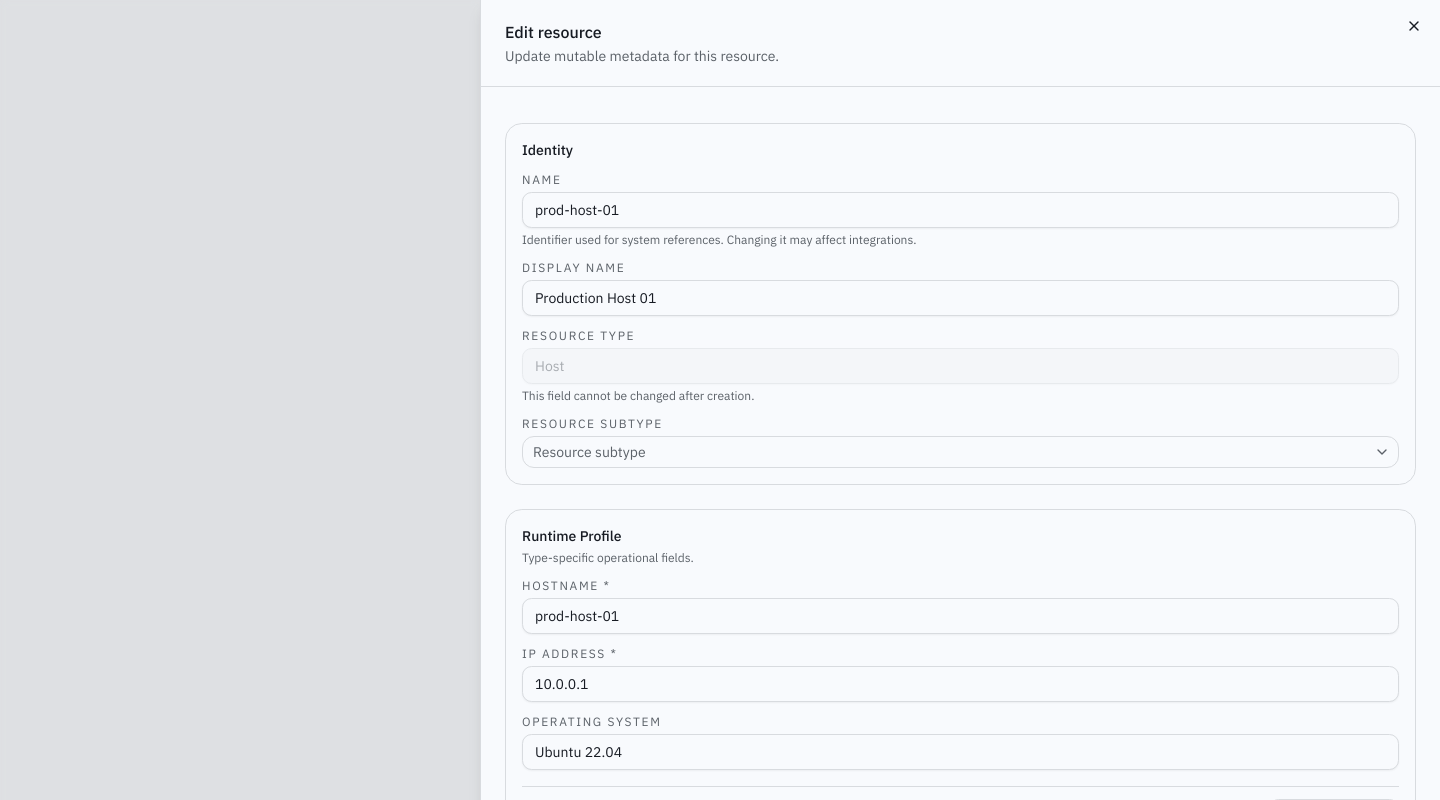
Test case: EditResourceSheet › shows the same backend identity field error on the profile input
The width and height of the screenshot is (1440, 800).
Replace the text in the field with placeholder "db-prod-01" with "renamed-host" at point(960, 616), box [522,598,1399,634]
(page scrolled)
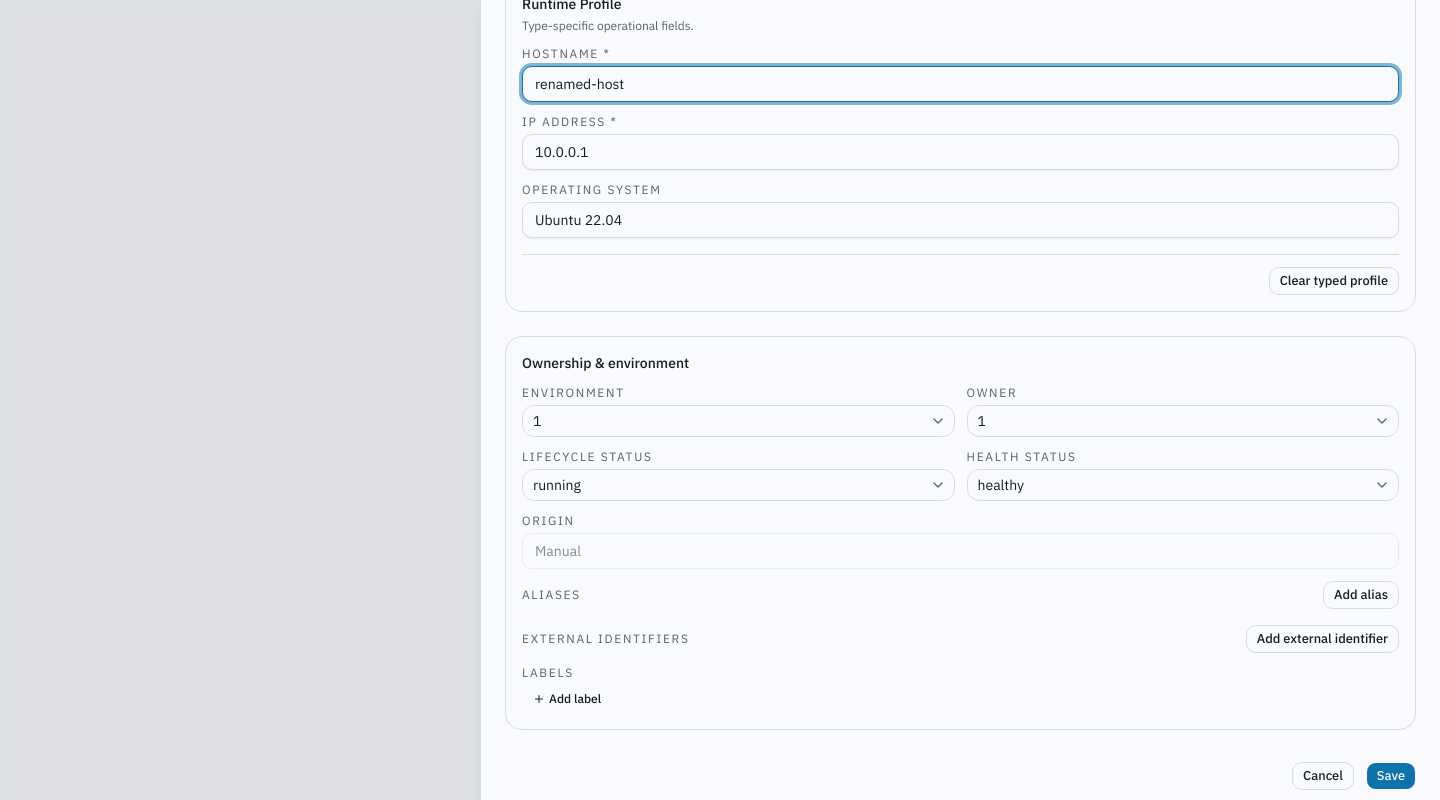
Click the button "Save".
click(1391, 776)  # box [1366,762,1416,790]
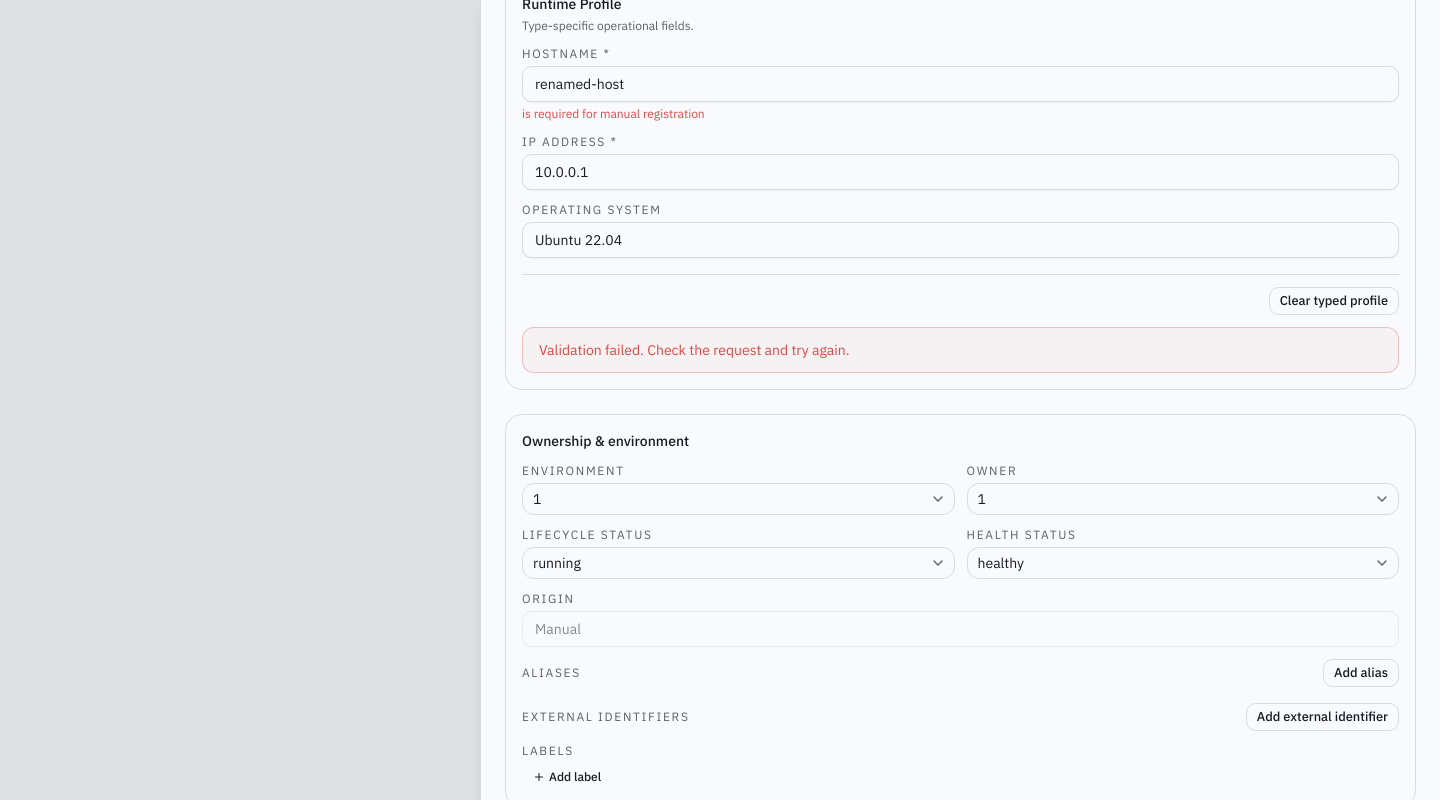
Now the text "is required for manual registration" is shown, box [522,106,705,121]
